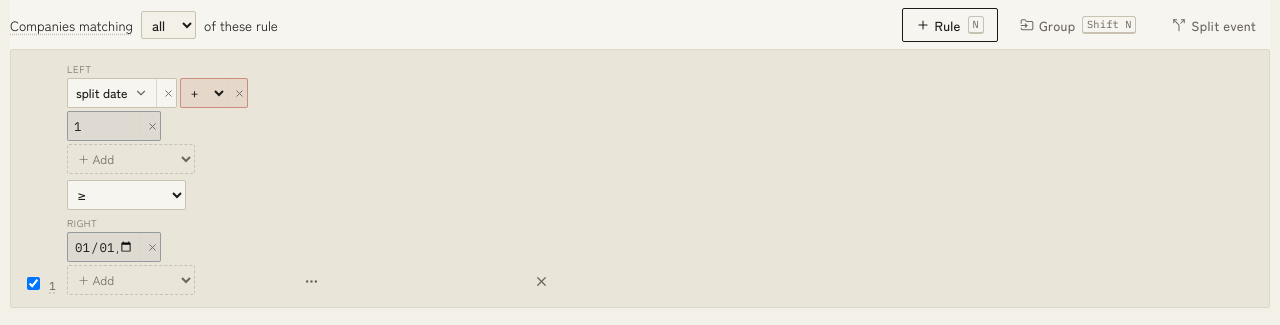
Test: rule builder › keeps full expressions with explicit parentheses and date tokens
Select "(" in the dropdown named "Add right expression token": {"x": 131, "y": 280} [67,265,195,295]
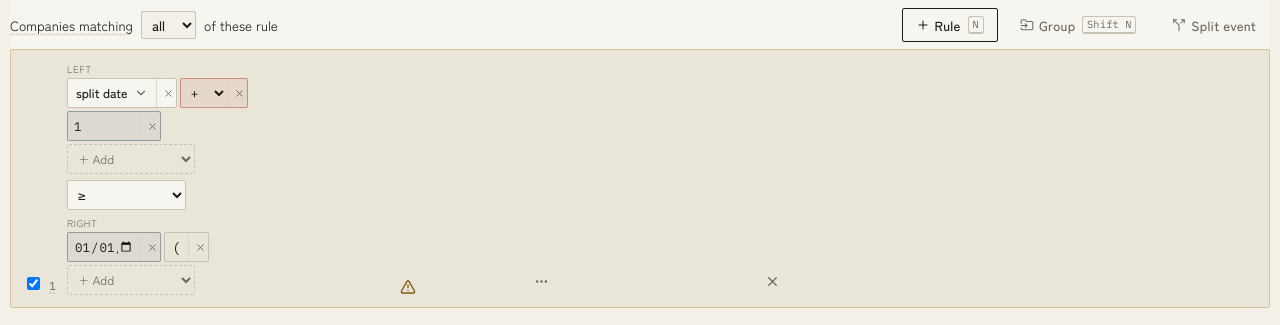
Select ")" in the dropdown named "Add right expression token": {"x": 131, "y": 280} [67,265,195,295]
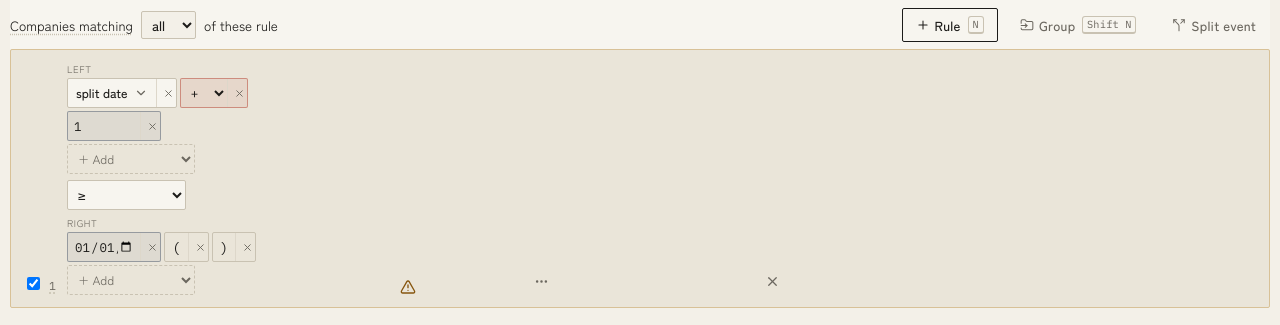
Now the text named "Open parenthesis" reads "(", box [172,238,181,256]
Now the text named "Close parenthesis" reads ")", box [220,238,228,256]
